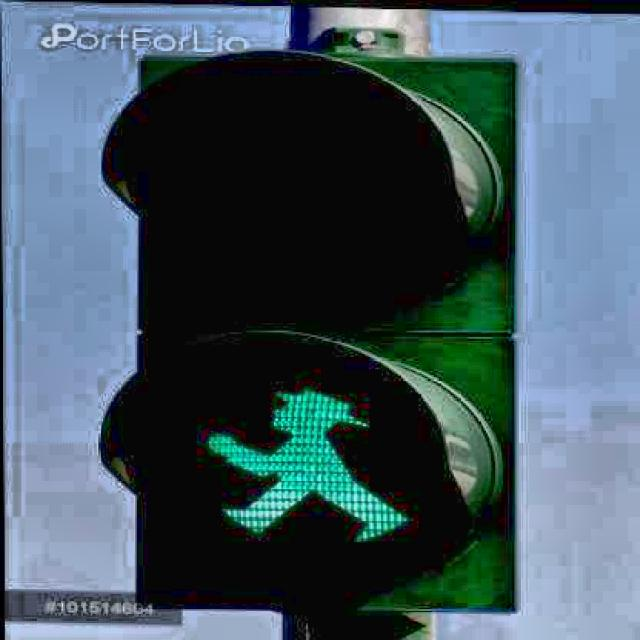semaforo pedestre: (74, 18, 583, 640)
